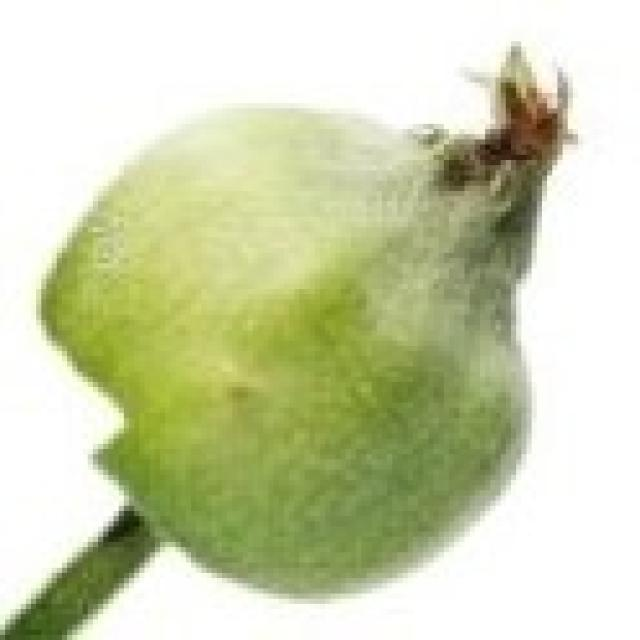20-_ripeness: (40, 56, 577, 599)
